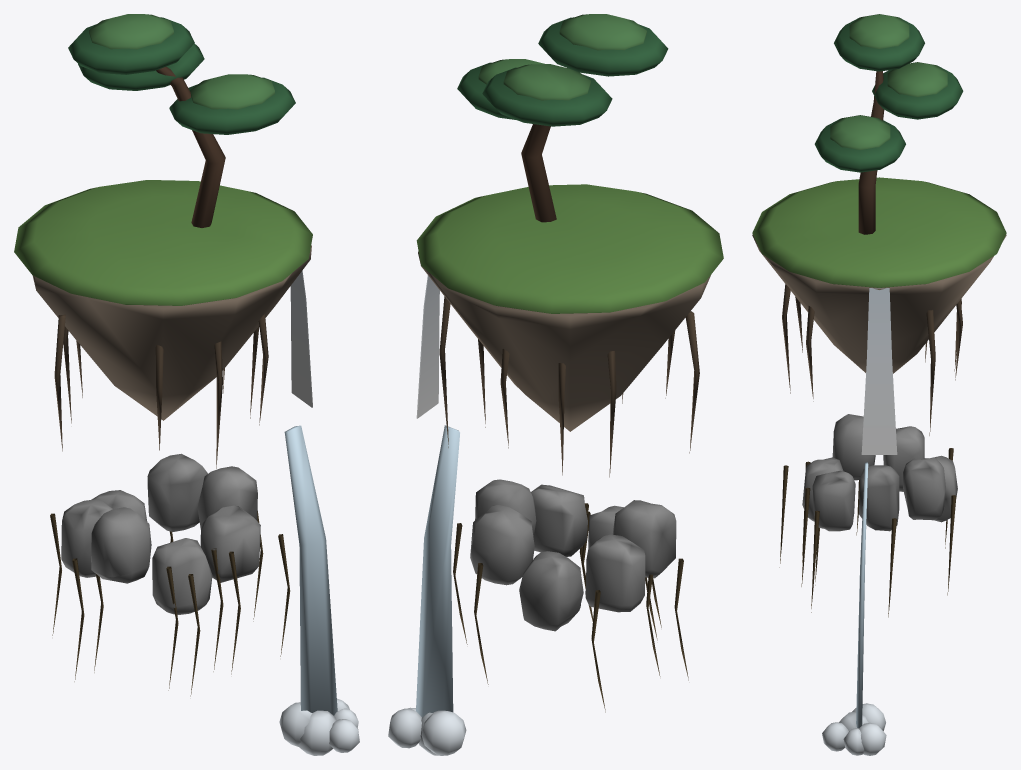
File: floatisle.glb
The picture shows the model from 3 angles, left to right: view 1: azimuth 30°, elevation 25°; view 2: azimuth 150°, elevation 25°; view 3: azimuth 270°, elevation 25°; orthographic projection. The views are drawn at different scales.
Visible parts, largest first — view 1: floatisle; view 2: floatisle; view 3: floatisle.
Part boxes in pixels (x1,y1,x2,y2): floatisle: (14, 14, 359, 755); floatisle: (388, 14, 723, 755); floatisle: (752, 14, 1006, 755).
Bounding box in the file's own units: 2.43 × 5.69 × 2.
